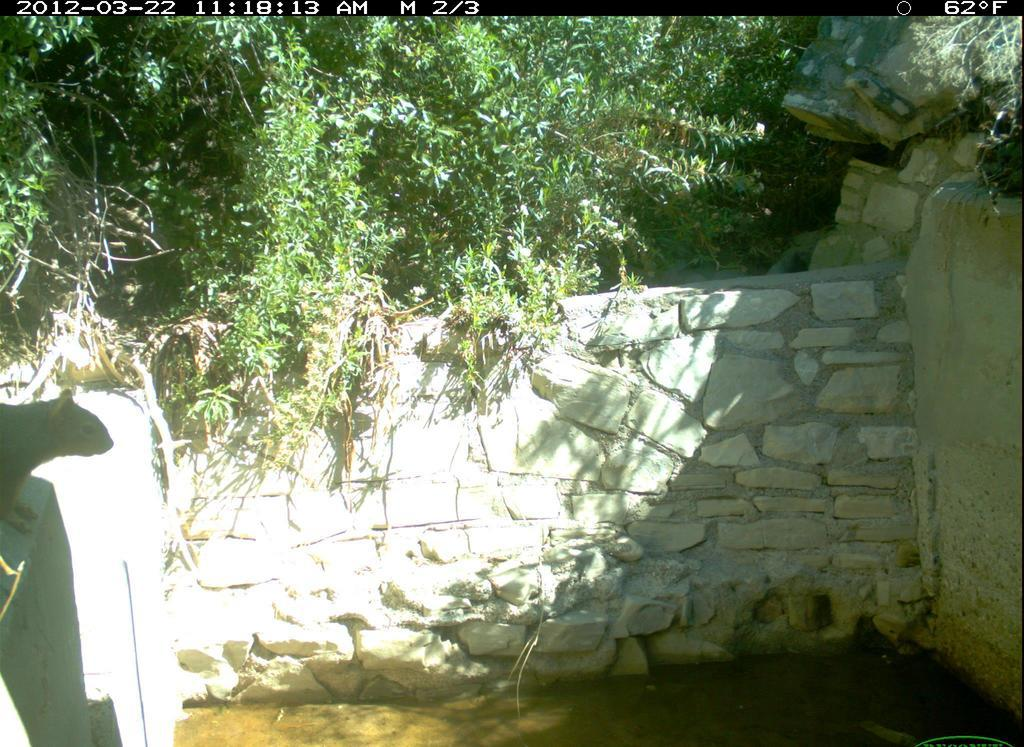squirrel: (1, 382, 122, 541)
